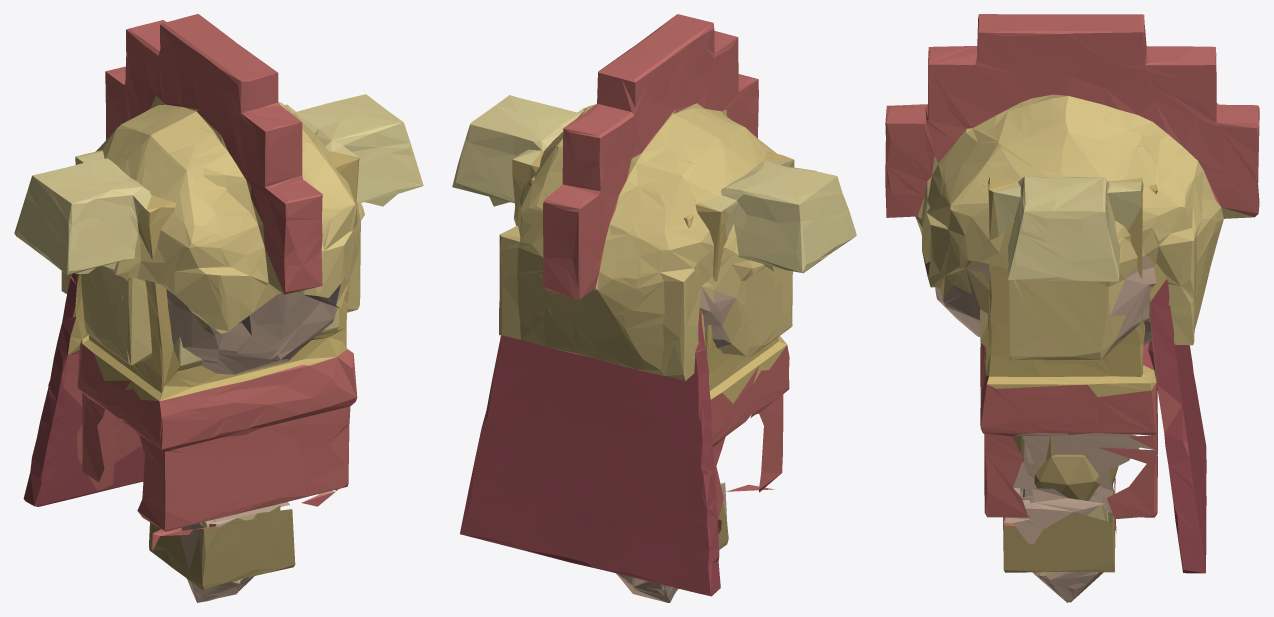
The model's file is boss.glb.
3 views of the same model, side by side, from view 1: azimuth 30°, elevation 25°; view 2: azimuth 150°, elevation 25°; view 3: azimuth 270°, elevation 25° (orthographic). The views are drawn at different scales.
Parts seen in each view (by area): view 1: torso, head, legL_l, legR_l, armR_l; view 2: torso, head, armR_l; view 3: head, torso, legR_l, legL_u, armR_l, armL_l.
Boxes of the visible parts, bbox=[...] form: torso: bbox=[14, 94, 423, 550]; head: bbox=[61, 14, 364, 374]; legL_l: bbox=[149, 505, 280, 589]; legR_l: bbox=[209, 502, 295, 583]; armR_l: bbox=[187, 509, 272, 602]; torso: bbox=[452, 95, 856, 596]; head: bbox=[499, 14, 792, 380]; armR_l: bbox=[616, 573, 675, 602]; head: bbox=[885, 14, 1259, 360]; torso: bbox=[980, 176, 1206, 573]; legR_l: bbox=[1003, 454, 1118, 572]; legL_u: bbox=[1022, 432, 1139, 491]; armR_l: bbox=[1022, 486, 1108, 602]; armL_l: bbox=[1020, 488, 1090, 602].
Bounding box in the file's own units: 1.07 × 1.59 × 0.9476.
